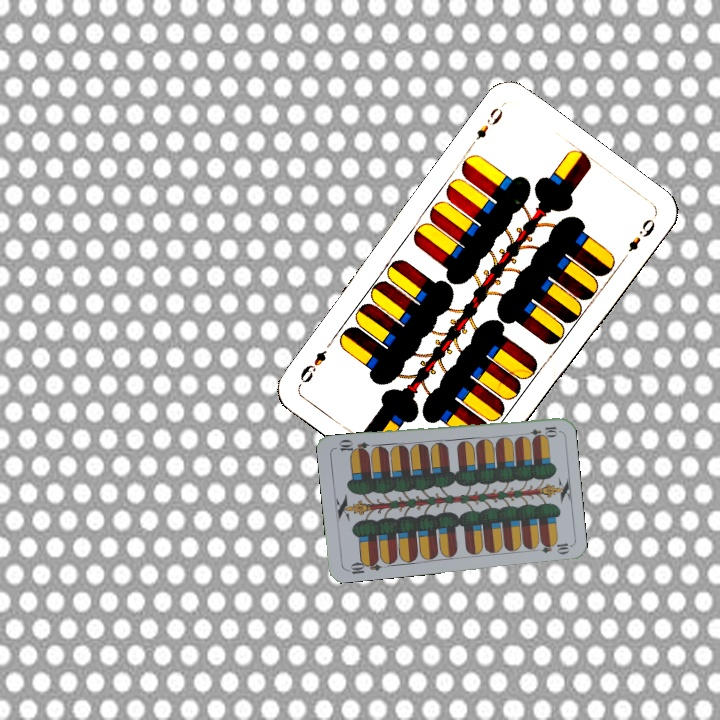E10: (343, 555, 383, 577), (519, 422, 560, 439)
E9: (465, 103, 506, 151)
